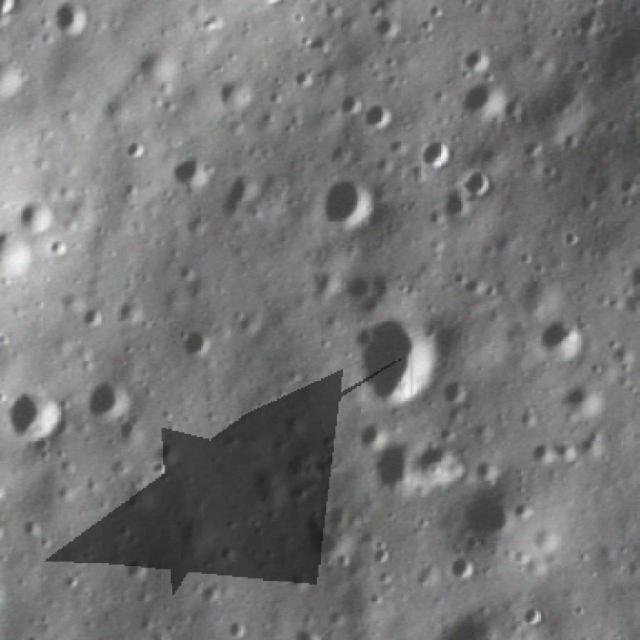crater: (346, 314, 448, 414), (462, 484, 524, 554), (320, 173, 382, 235), (305, 511, 367, 567), (8, 387, 66, 445), (405, 438, 464, 493), (342, 269, 402, 320), (534, 314, 591, 366), (460, 75, 512, 127), (80, 375, 137, 422), (214, 171, 264, 224), (0, 226, 43, 286), (132, 44, 183, 88), (556, 378, 606, 422), (169, 150, 216, 195), (46, 0, 96, 42), (14, 193, 60, 238), (213, 76, 261, 116), (179, 328, 219, 368), (0, 54, 32, 102), (318, 498, 360, 532), (442, 548, 481, 583), (458, 163, 502, 194), (434, 186, 474, 220), (150, 437, 188, 472), (359, 99, 399, 132), (418, 136, 456, 170), (569, 9, 606, 43), (117, 410, 152, 444), (576, 429, 610, 463), (122, 552, 156, 586), (374, 13, 404, 49), (282, 565, 315, 597), (461, 43, 493, 71), (614, 165, 640, 198), (528, 438, 560, 464), (339, 90, 367, 118), (520, 602, 546, 630), (304, 33, 333, 58), (620, 285, 640, 321), (370, 541, 399, 565), (198, 579, 222, 607), (226, 617, 254, 640), (23, 513, 46, 541), (293, 623, 327, 640), (562, 223, 583, 249), (624, 257, 640, 291), (0, 2, 22, 26)
